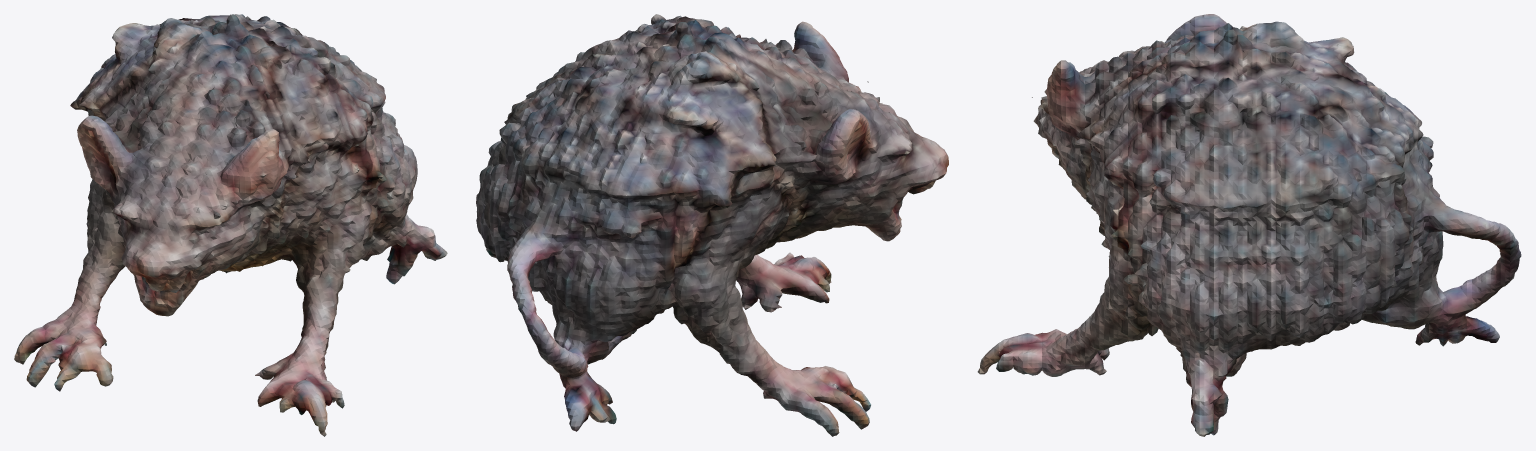
Rendered from tikus_sawah.glb.
3 renders of one model, left to right at view 1: azimuth 30°, elevation 25°; view 2: azimuth 150°, elevation 25°; view 3: azimuth 270°, elevation 25°, orthographic. The views are drawn at different scales.
Parts seen in each view (by area): view 1: geometry_0; view 2: geometry_0; view 3: geometry_0.
Boxes of the visible parts, x1,y1,x2,y2 form: geometry_0: [14, 14, 447, 436]; geometry_0: [476, 14, 948, 436]; geometry_0: [977, 14, 1521, 436].
Bounding box in the file's own units: 0.9351 × 0.7635 × 1.04.
